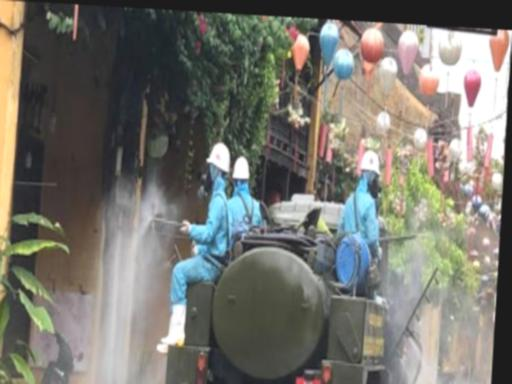License_Plate: (292, 375, 323, 384)
